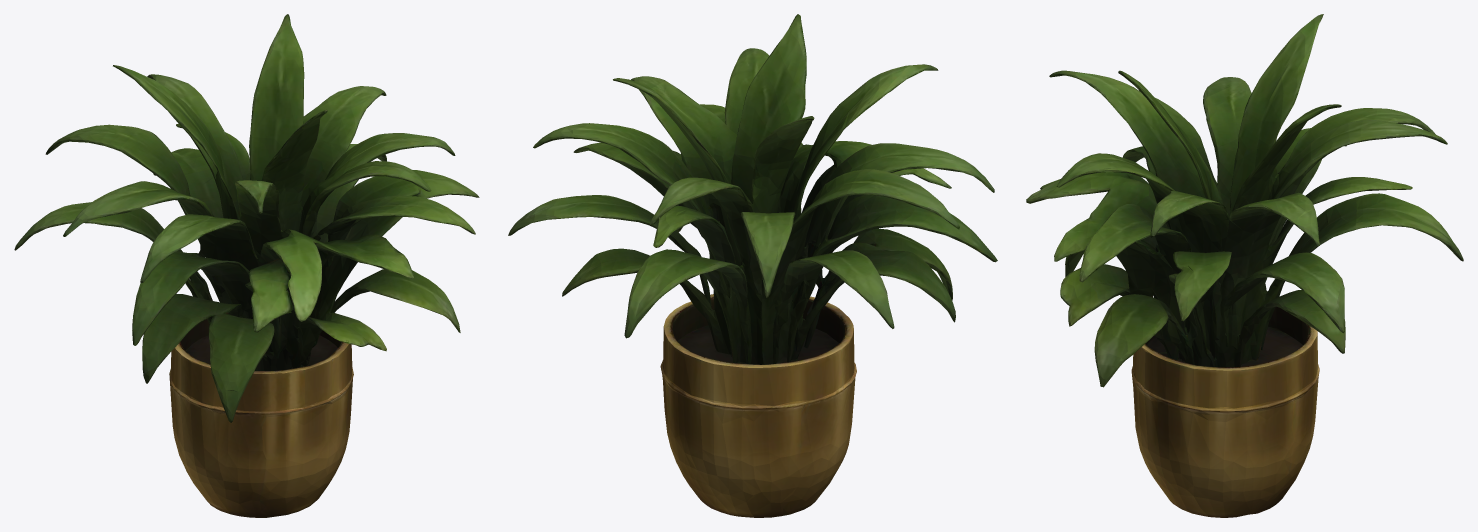
3 renders of one model, left to right at view 1: azimuth 30°, elevation 25°; view 2: azimuth 150°, elevation 25°; view 3: azimuth 270°, elevation 25°, orthographic. The views are drawn at different scales.
Visible parts, largest first — view 1: geometry_0; view 2: geometry_0; view 3: geometry_0.
Boxes of the visible parts, left/top/right/bottom form: geometry_0: left=14, top=14, right=479, bottom=517; geometry_0: left=508, top=14, right=997, bottom=517; geometry_0: left=1026, top=14, right=1463, bottom=517.
Bounding box in the file's own units: 0.9813 × 1 × 0.925.
Materials: 1 (1 with a texture image).
